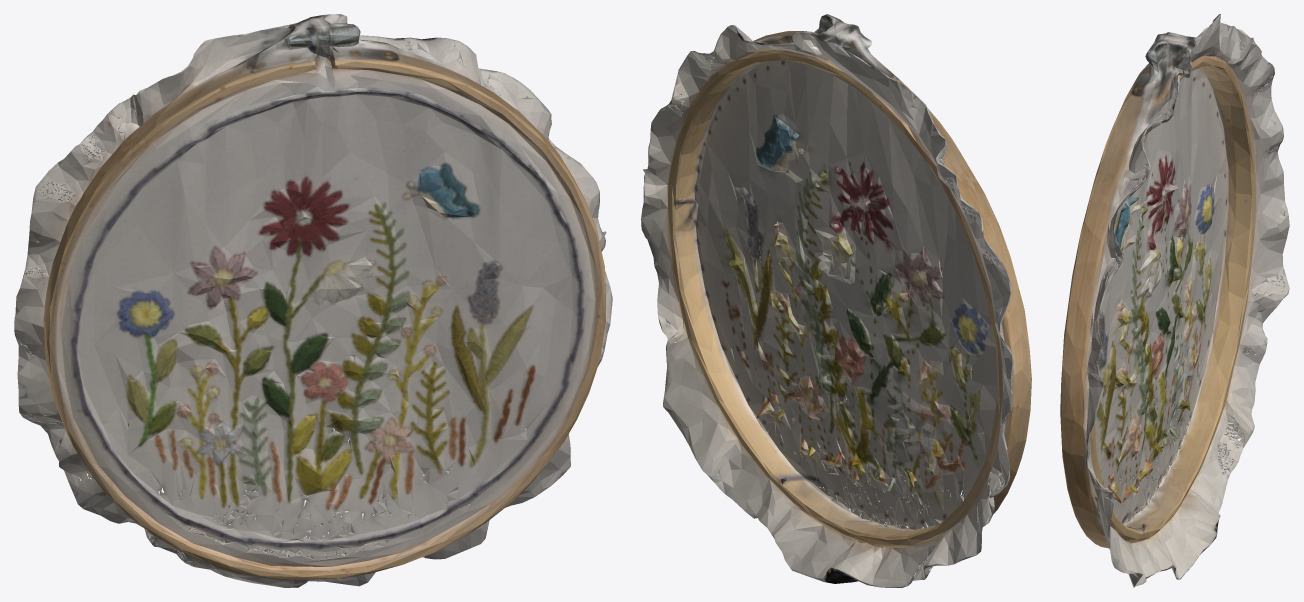
3 renders of one model, left to right at view 1: azimuth 30°, elevation 25°; view 2: azimuth 150°, elevation 25°; view 3: azimuth 270°, elevation 25°, orthographic. The views are drawn at different scales.
Parts seen in each view (by area): view 1: _Stickerei Blumen_14k_2k; view 2: _Stickerei Blumen_14k_2k; view 3: _Stickerei Blumen_14k_2k.
Part boxes in pixels (x1=…): _Stickerei Blumen_14k_2k: x1=14, y1=14, x2=612, y2=587; _Stickerei Blumen_14k_2k: x1=641, y1=14, x2=1031, y2=587; _Stickerei Blumen_14k_2k: x1=1060, y1=14, x2=1289, y2=587.
Bounding box in the file's own units: 0.2023 × 0.2261 × 0.09.
Materials: 1 (1 with a texture image).
